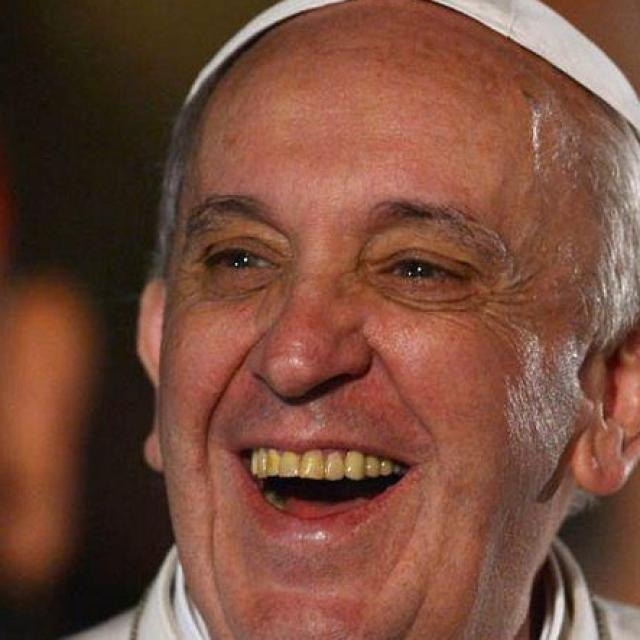Normal: (154, 0, 608, 639)
